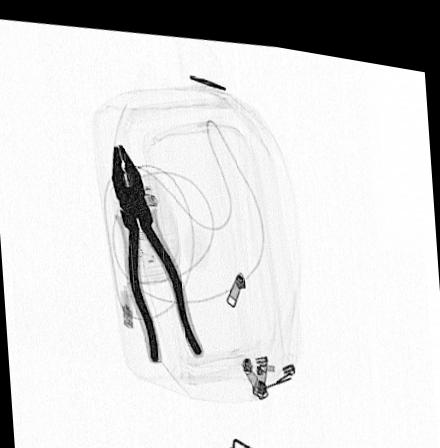Pliers: (108, 137, 204, 359)
